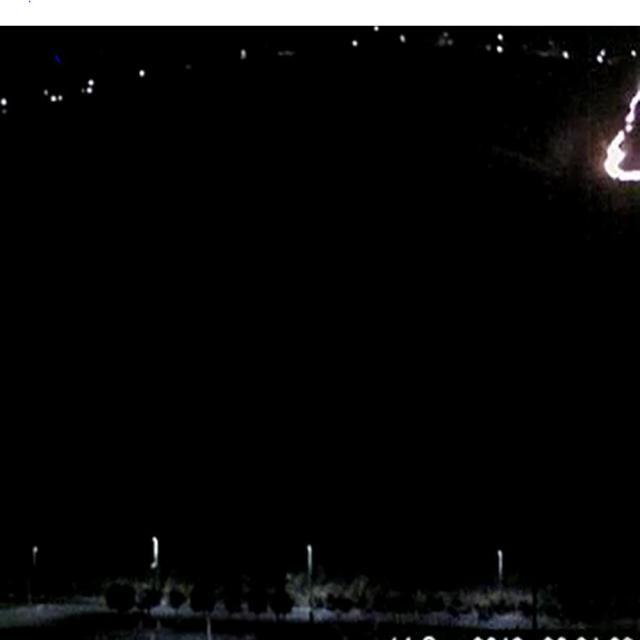Fire: (601, 78, 638, 185)
